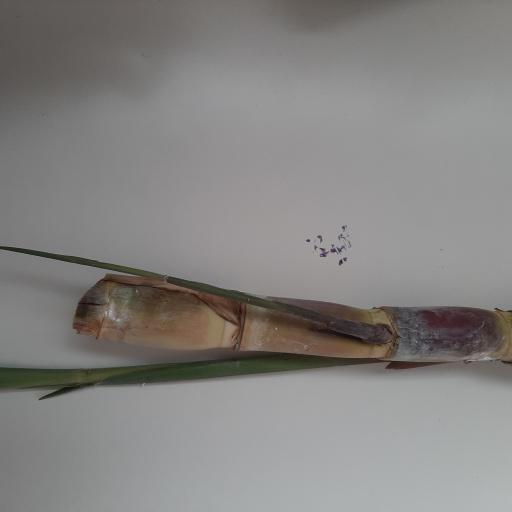Sprouted_Bud: (314, 314, 396, 346)
